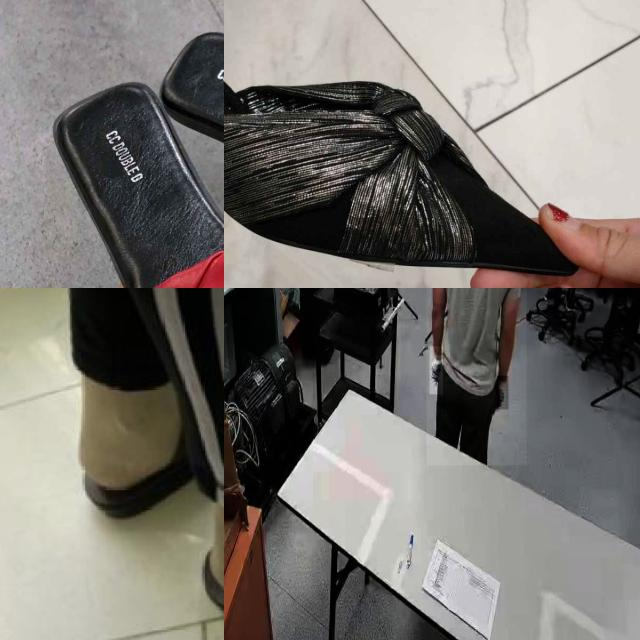Sandals: (224, 0, 587, 288), (20, 5, 224, 288)
hand_glove: (429, 346, 444, 396), (497, 376, 509, 410)
person: (426, 288, 527, 466)
